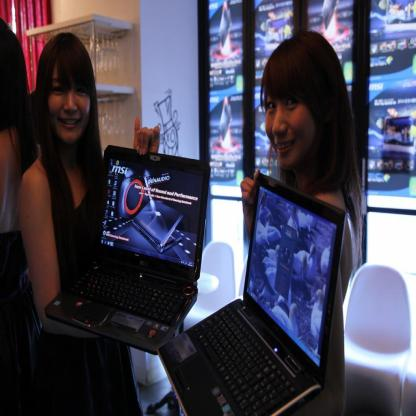board: (180, 172, 346, 416), (46, 145, 210, 354), (132, 200, 182, 253)
